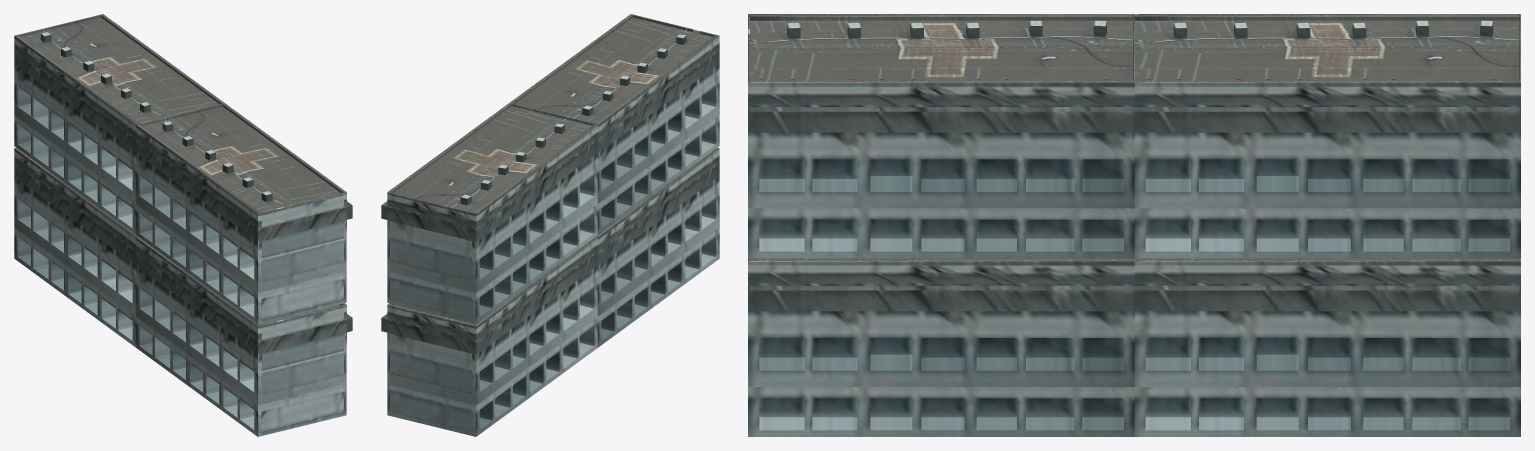
3 views of the same model, side by side, from view 1: azimuth 30°, elevation 25°; view 2: azimuth 150°, elevation 25°; view 3: azimuth 270°, elevation 25° (orthographic). The views are drawn at different scales.
Visible parts, largest first — view 1: hospitalcompleto.007; view 2: hospitalcompleto.007; view 3: hospitalcompleto.007.
Boxes of the visible parts, x1,y1,x2,y2 form: hospitalcompleto.007: [14, 14, 352, 436]; hospitalcompleto.007: [381, 14, 719, 436]; hospitalcompleto.007: [748, 14, 1520, 436].
Bounding box in the file's own units: 1.6 × 3.65 × 7.08.
Materials: 3 (3 with a texture image).
